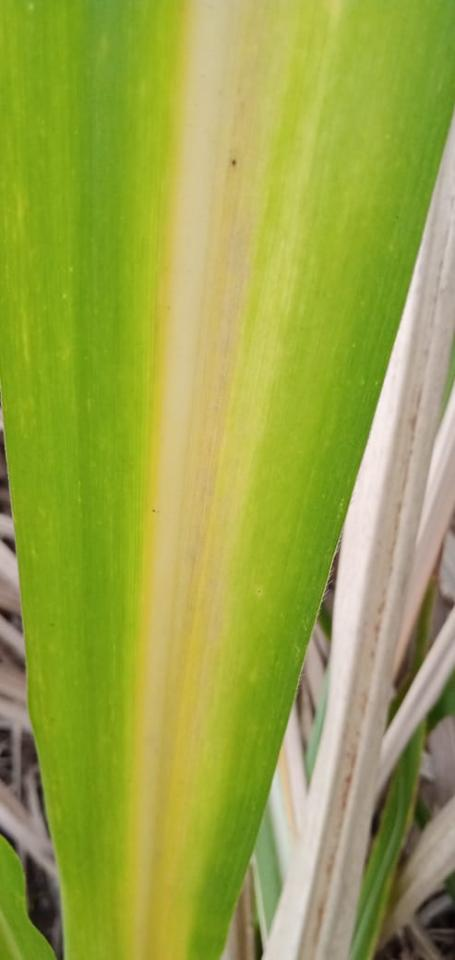Yellow: (130, 0, 267, 959)
